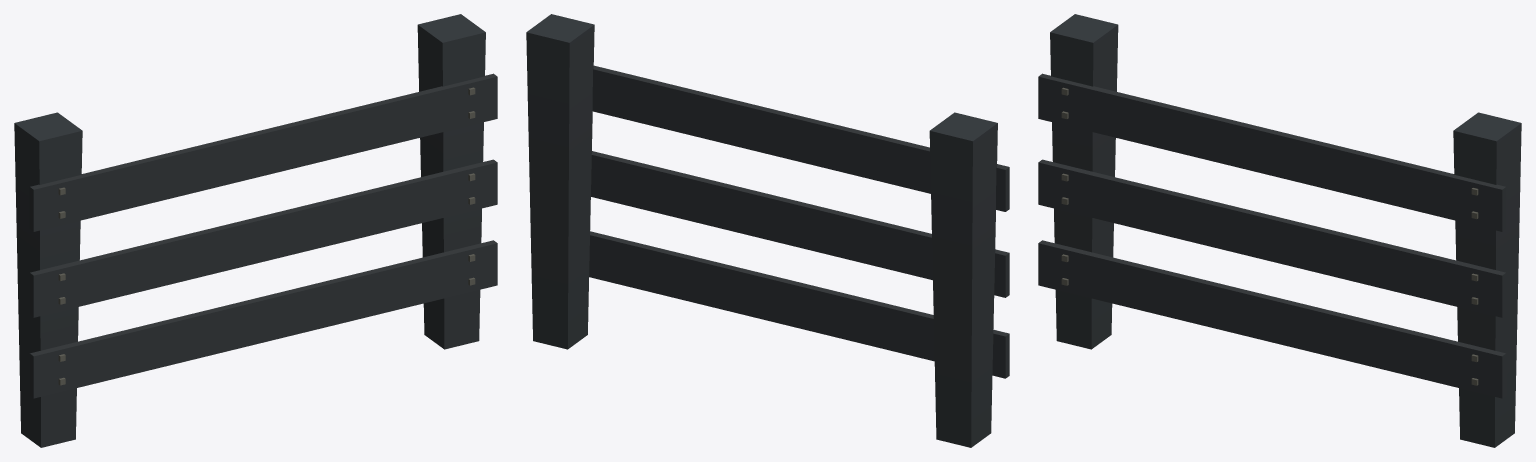
File: Fence_04.fbx
3 renders of one model, left to right at view 1: azimuth 30°, elevation 25°; view 2: azimuth 150°, elevation 25°; view 3: azimuth 330°, elevation 25°, orthographic.
Parts seen in each view (by area): view 1: Fence_04; view 2: Fence_04; view 3: Fence_04.
Part boxes in pixels (x1,y1,x2,y2): Fence_04: (14, 14, 497, 447); Fence_04: (526, 14, 1009, 447); Fence_04: (1038, 14, 1521, 447).
Size of the model in its own units: 1.73 by 1.1 by 0.1903.
